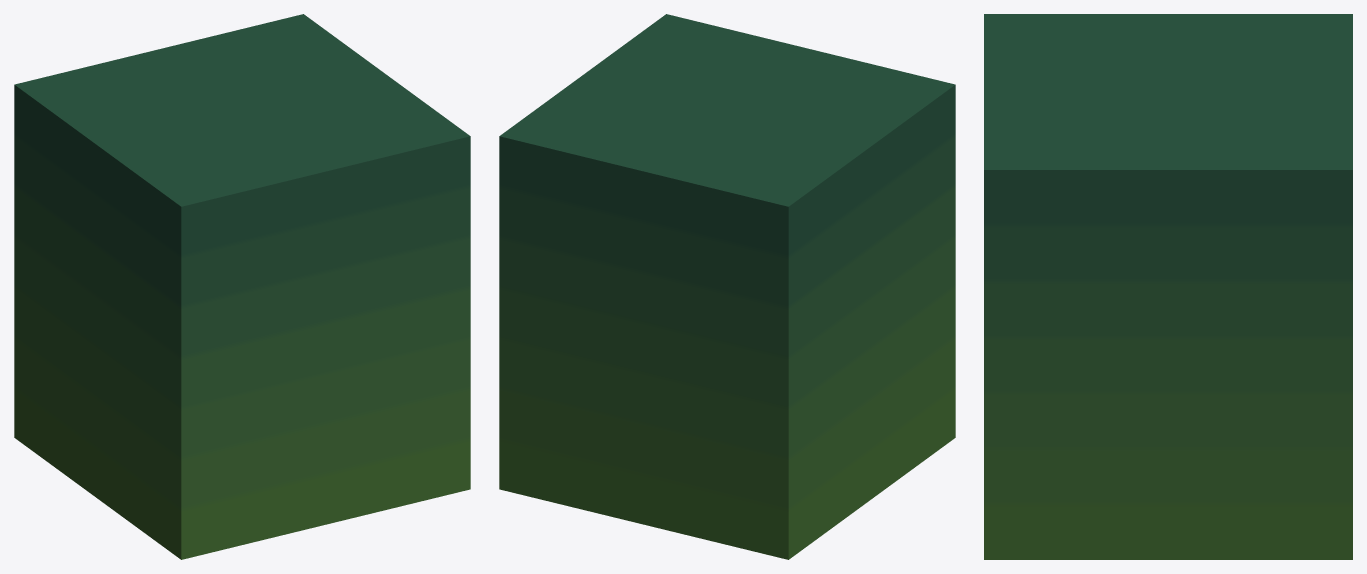
Rendered from Hip077.fbx.
3 renders of one model, left to right at view 1: azimuth 30°, elevation 25°; view 2: azimuth 150°, elevation 25°; view 3: azimuth 270°, elevation 25°, orthographic. The views are drawn at different scales.
Parts seen in each view (by area): view 1: Hip077; view 2: Hip077; view 3: Hip077.
Part boxes in pixels (left/top/right/bottom): Hip077: left=14, top=14, right=470, bottom=559; Hip077: left=499, top=14, right=955, bottom=559; Hip077: left=984, top=14, right=1352, bottom=559.
Size of the model in its own units: 6 by 7 by 6.
